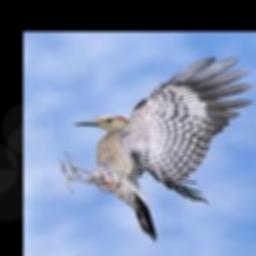Woodpecker: (58, 58, 254, 242)
